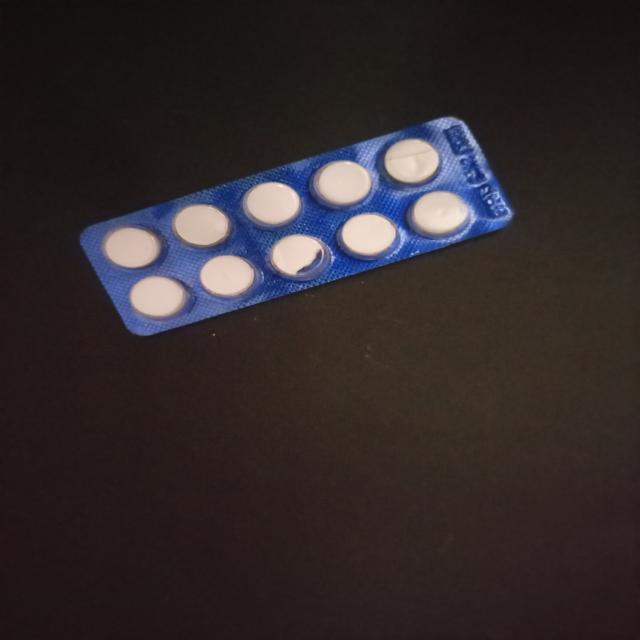defect: (268, 233, 334, 283), (380, 137, 444, 187)
